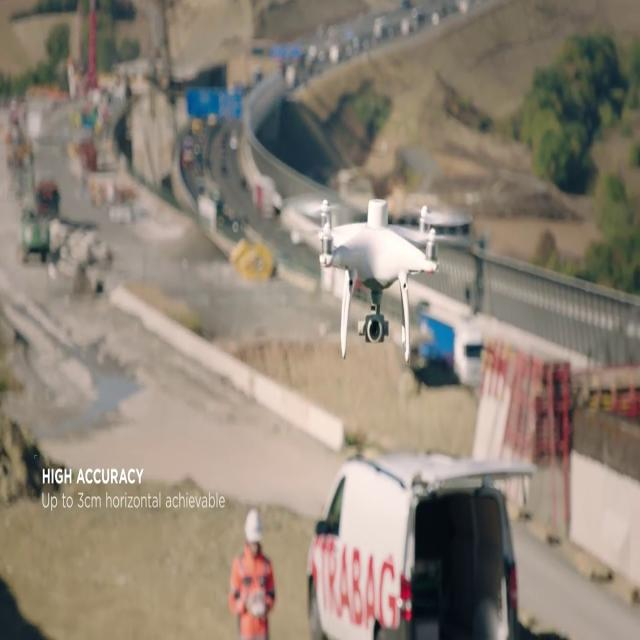drone: (282, 192, 473, 362)
